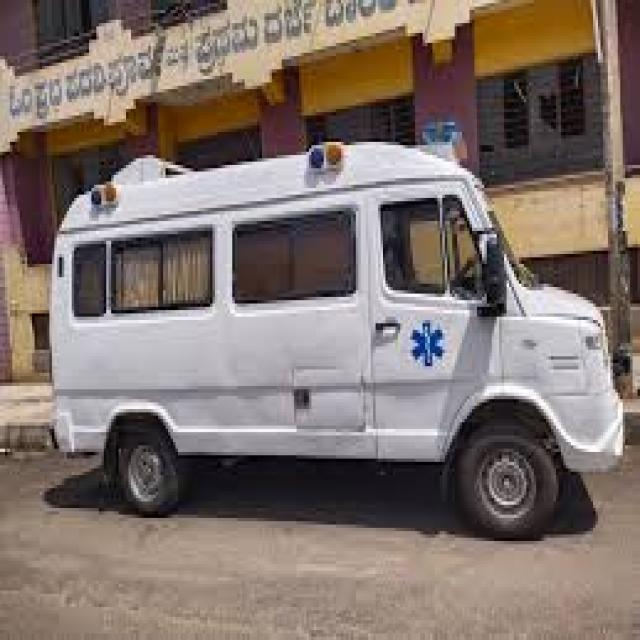ambulance: (54, 139, 628, 534)
